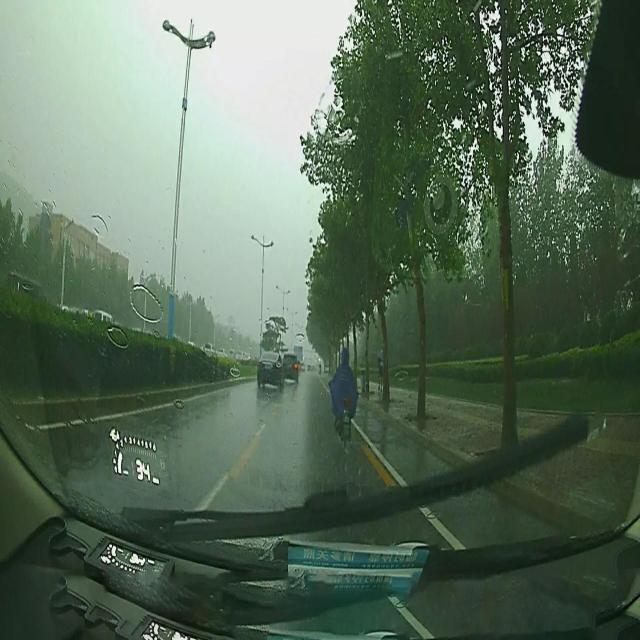car: (257, 349, 284, 388), (282, 350, 300, 383)
